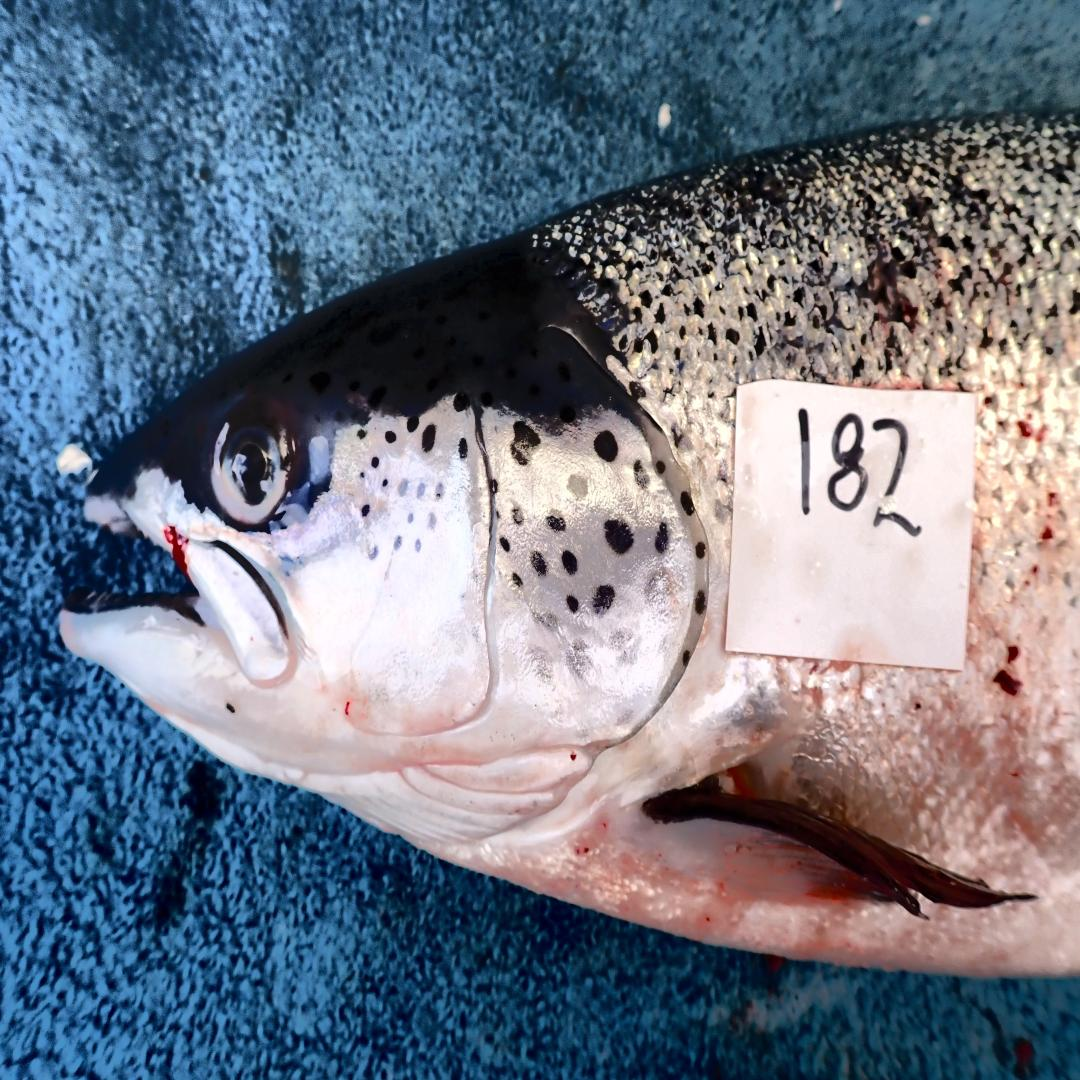spot: (510, 422, 540, 464), (603, 520, 633, 554), (593, 430, 618, 461), (593, 585, 616, 613), (567, 475, 589, 501), (546, 509, 567, 534), (633, 461, 650, 489), (654, 523, 669, 554), (422, 425, 437, 453), (561, 551, 578, 574), (532, 551, 546, 577), (454, 391, 470, 411), (681, 492, 694, 515), (695, 591, 706, 615), (513, 503, 524, 526), (407, 416, 420, 433), (694, 543, 707, 560), (566, 595, 579, 612), (458, 439, 468, 458), (397, 480, 408, 497), (498, 538, 509, 553), (490, 478, 499, 496), (655, 459, 665, 475), (386, 430, 397, 444), (435, 483, 444, 500), (682, 651, 691, 668), (369, 546, 379, 561), (511, 574, 522, 587), (392, 536, 401, 550), (356, 428, 367, 439), (370, 458, 380, 470), (428, 514, 435, 530), (361, 505, 370, 517), (413, 538, 421, 551), (417, 485, 424, 497), (383, 478, 389, 492), (406, 513, 413, 525), (358, 473, 365, 480)
